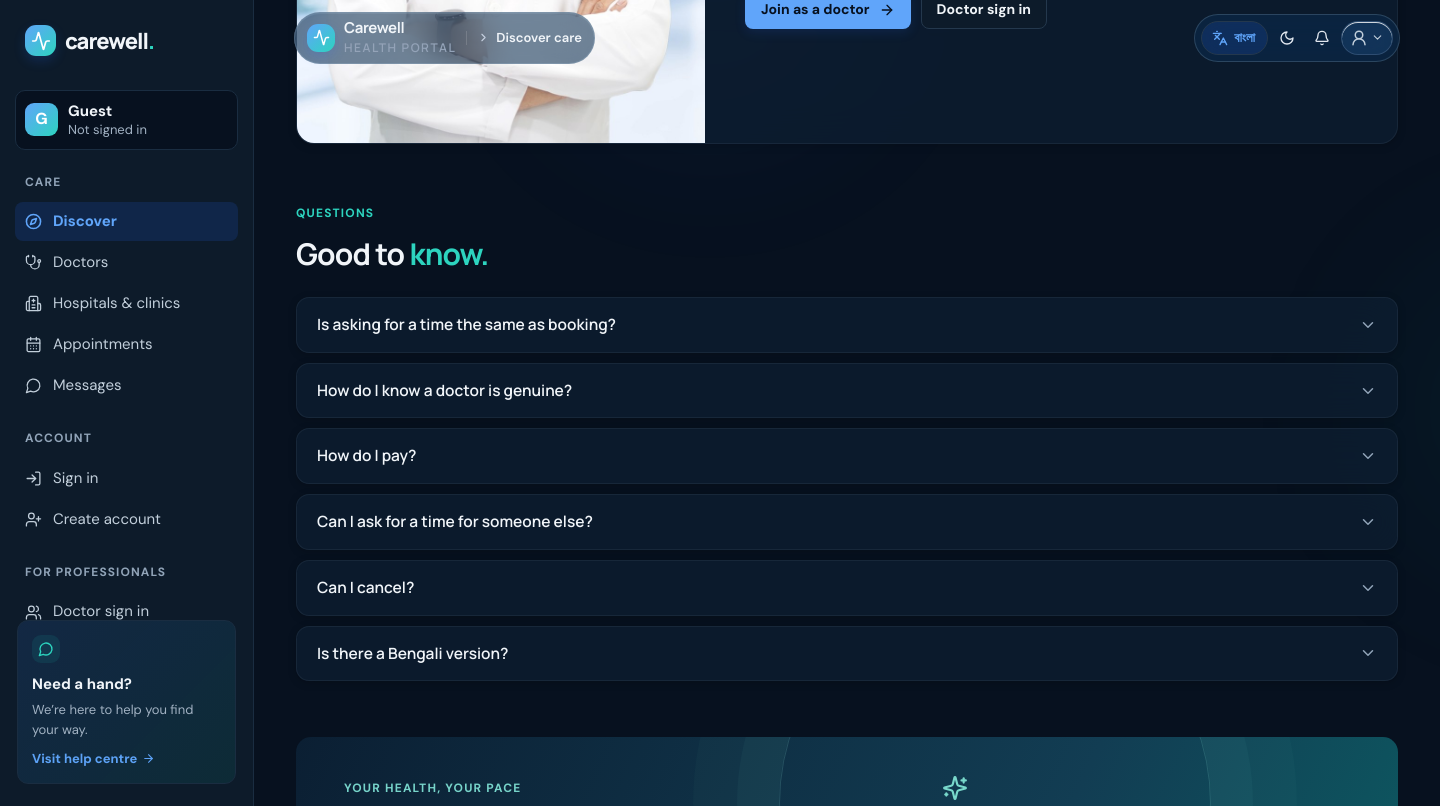
it: home page › answers the common questions in place
(page scrolled)
What coordinates should you click on to do the following:
click the heading "How do I pay?"
I would click on:
 (367, 455)
Its box is [317,444,1377,466].
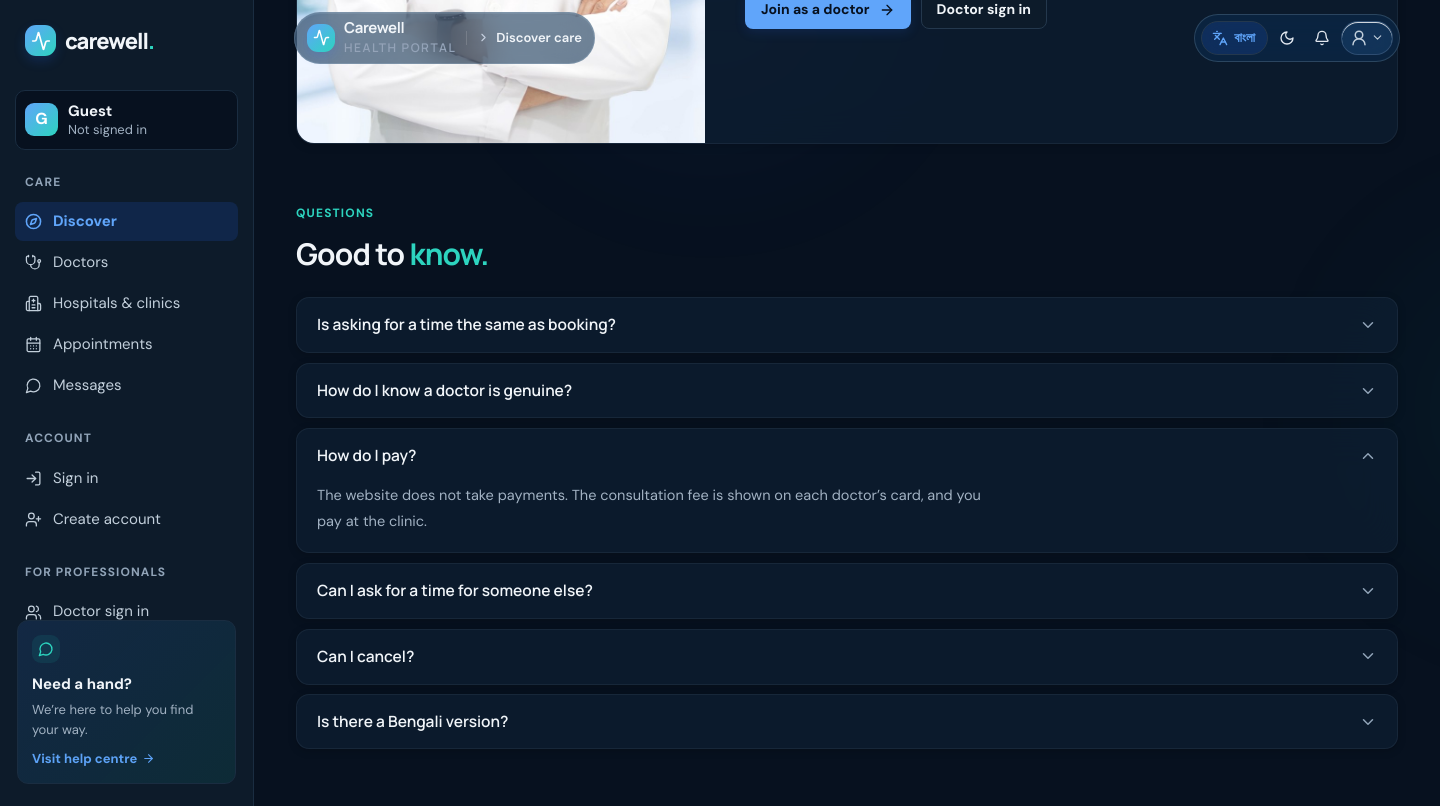
Check: the text "does not take payments" is shown, box [317,486,981,530]
